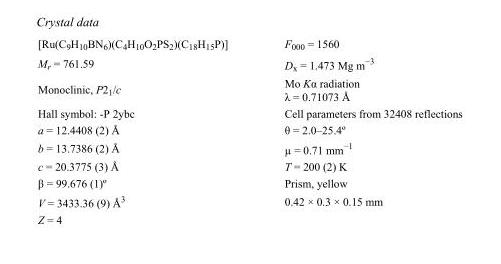table: (37, 36, 461, 225)
table column: (37, 36, 255, 225), (255, 36, 461, 225)
table row: (37, 74, 461, 104), (37, 53, 461, 74), (37, 138, 461, 157), (37, 191, 461, 210), (37, 36, 461, 53), (37, 104, 461, 121), (37, 121, 461, 138), (37, 157, 461, 174), (37, 174, 461, 191), (37, 210, 461, 225)
